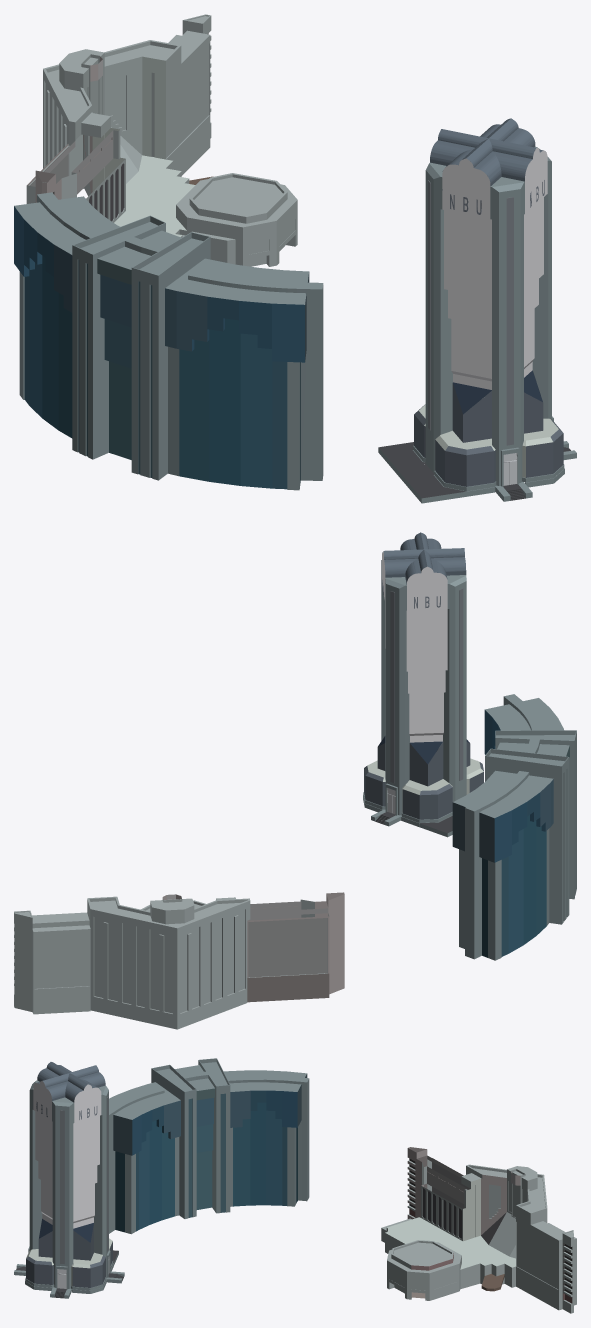
Rendered from nbu-low.glb.
The picture shows the model from 3 angles, top to bottom: view 1: azimuth 30°, elevation 25°; view 2: azimuth 150°, elevation 25°; view 3: azimuth 270°, elevation 25°; orthographic projection. The views are drawn at different scales.
Parts seen in each view (by area): view 1: Object_8; view 2: Object_8; view 3: Object_8.
Boxes of the visible parts, bbox=[...] form: Object_8: bbox=[14, 14, 576, 503]; Object_8: bbox=[14, 532, 576, 1029]; Object_8: bbox=[14, 1058, 576, 1313].
Bounding box in the file's own units: 160 × 118 × 297.
Materials: 2 (2 with a texture image).
